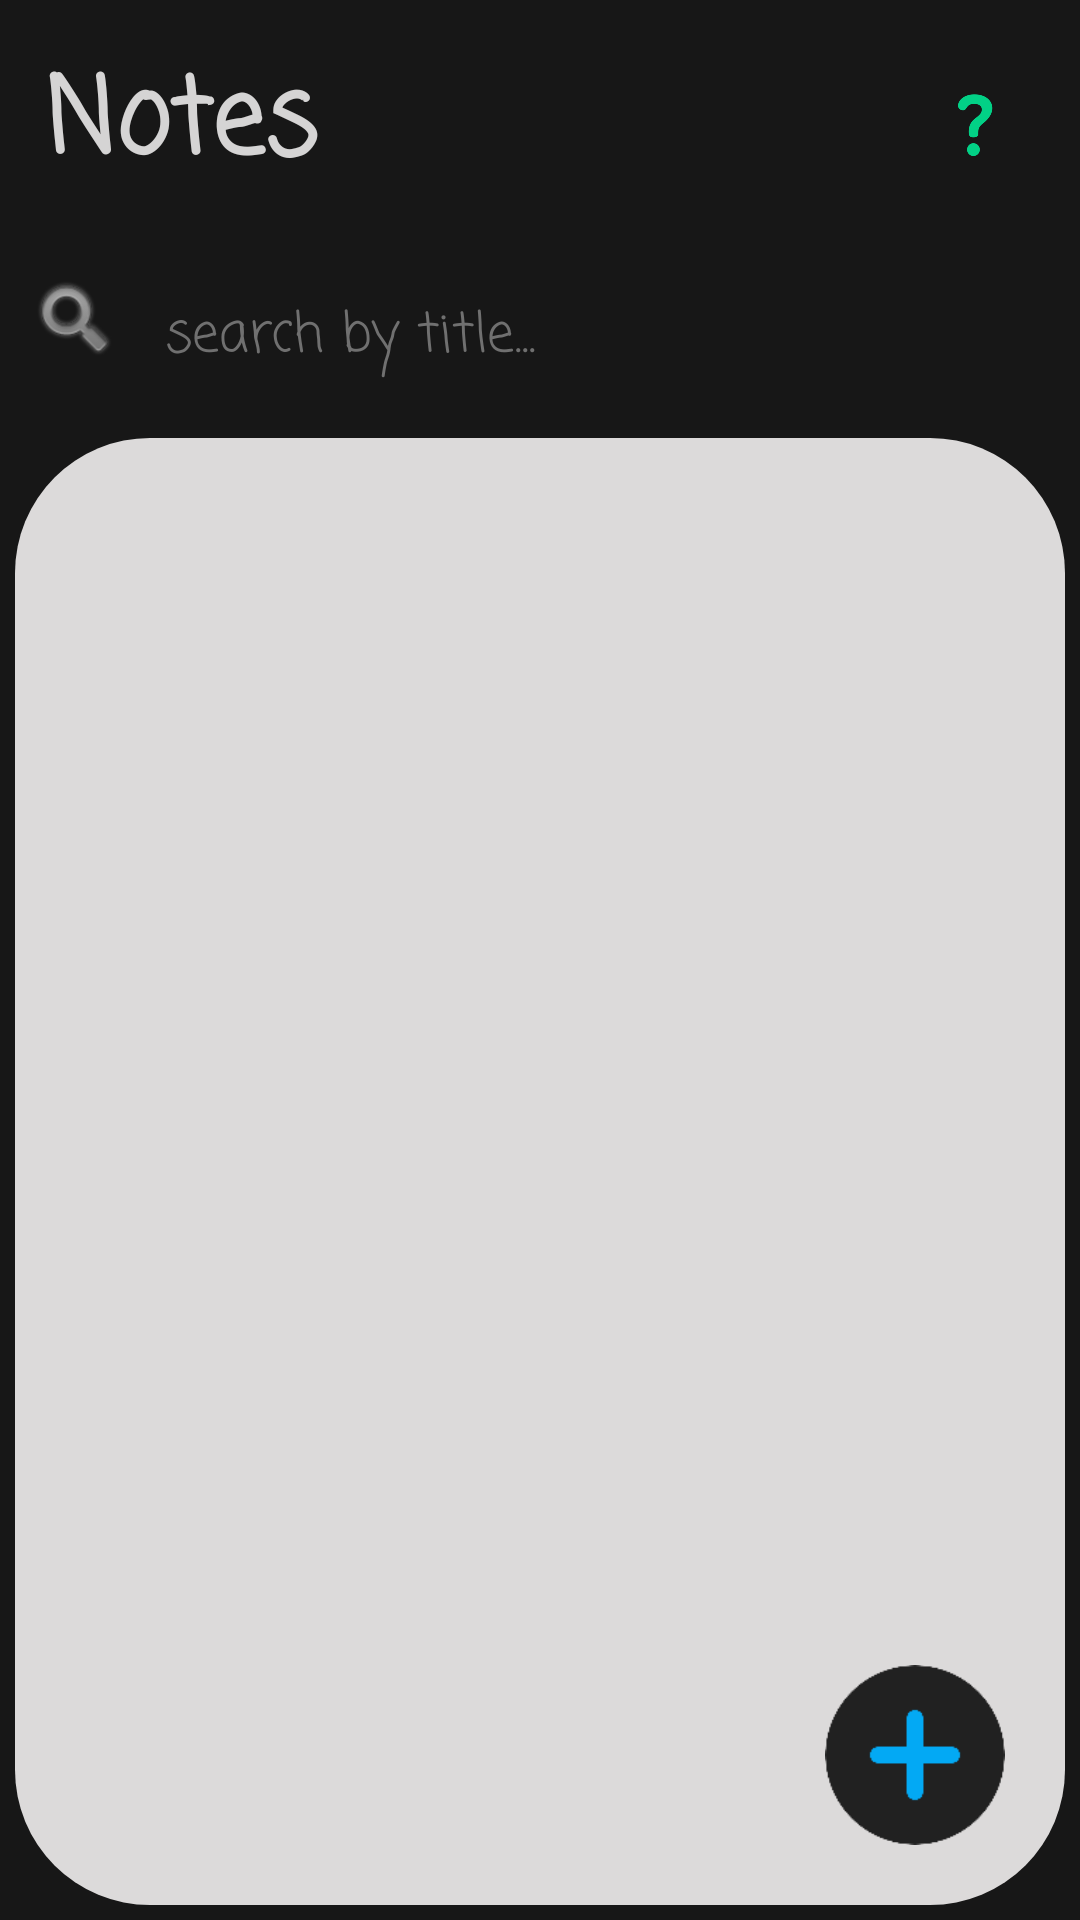

Point at icon controls on the screen. Image size 1080×1920, points as [x,y].
create: [915,1755]
info: [975,125]
search category: [74,318]
